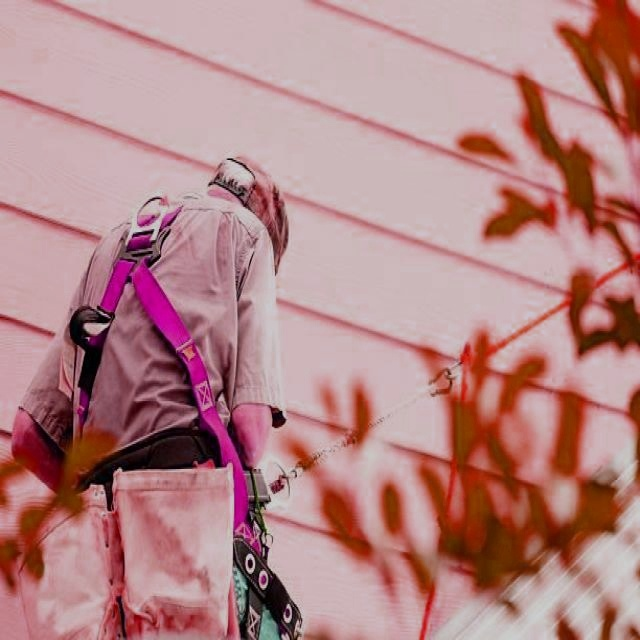safety belt: (75, 210, 257, 523)
